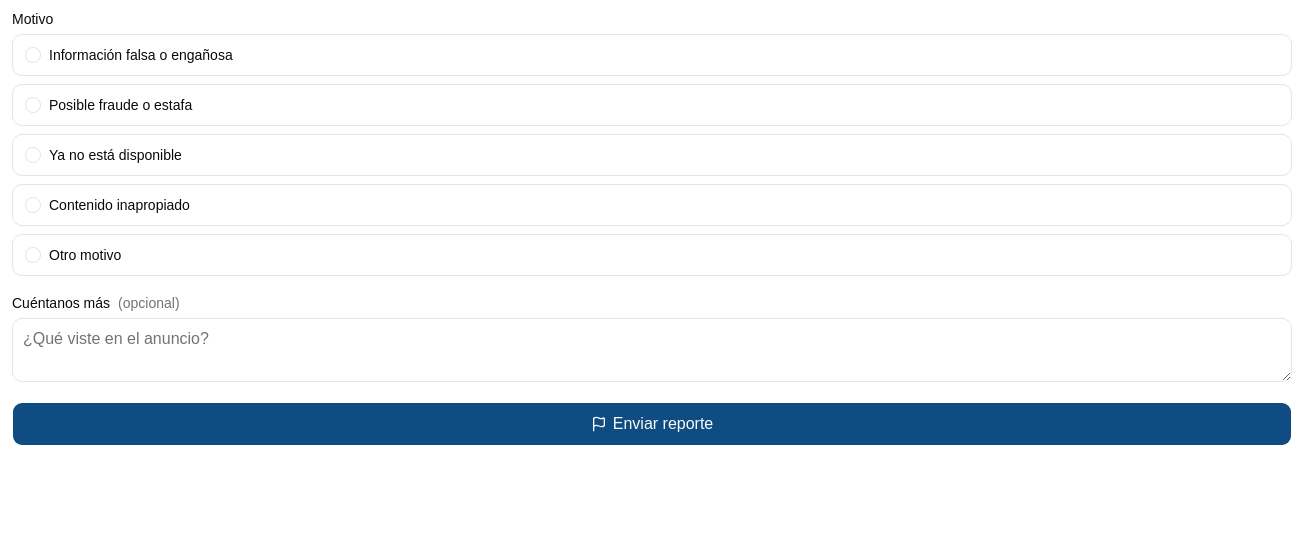
Scenario: ReportPropertyForm › ya enviado, lo confirma y desactiva el botón: repetirlo no enviaría nada
Click the radio button named "Información falsa o engañosa" next to "Información falsa o engañosa". click: (33, 55)
box: [25,47,41,63]
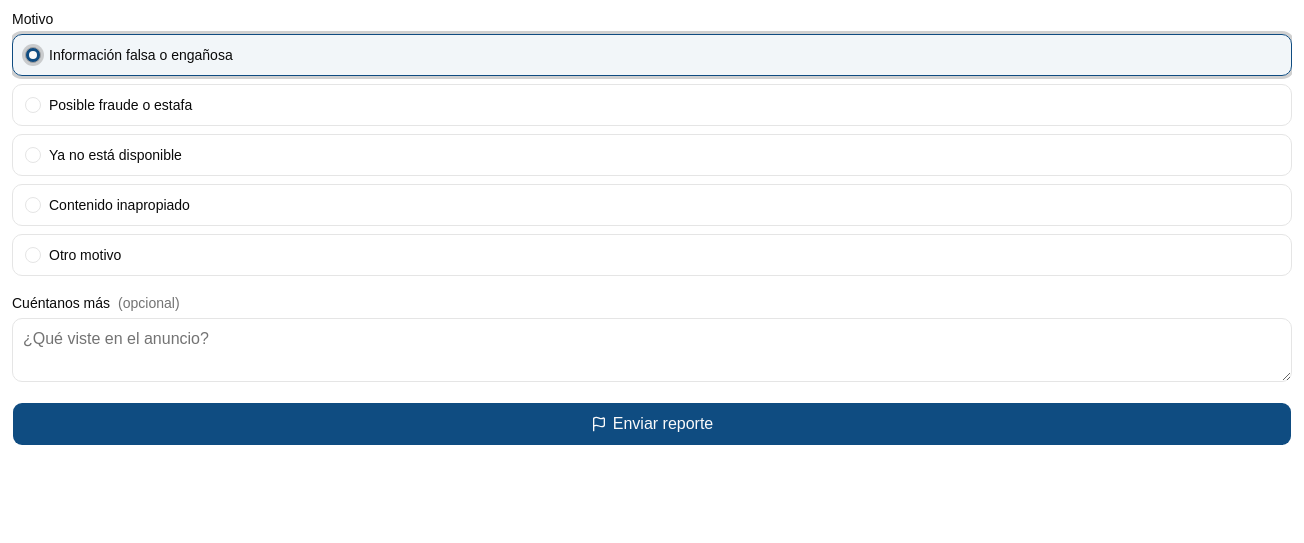
Click the button "Enviar reporte". click: (652, 424)
box: [12,402,1292,446]
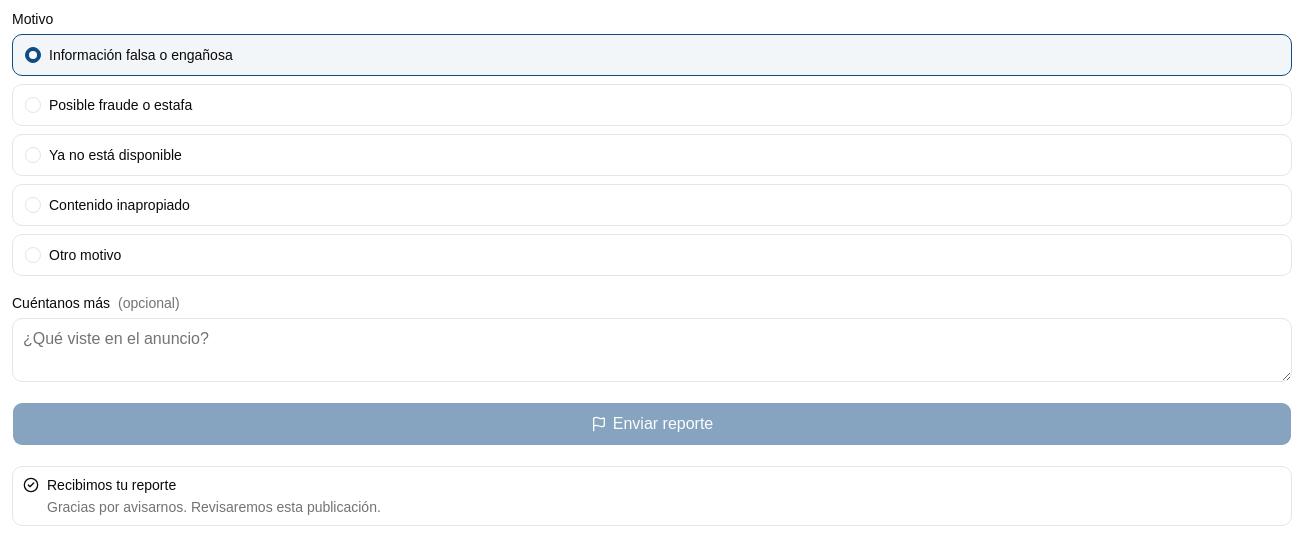
expect the message shows "Recibimos tu reporte": met, box [47,477,176,493]
expect the button "Enviar reporte" is disabled: met, box [12,402,1292,446]
